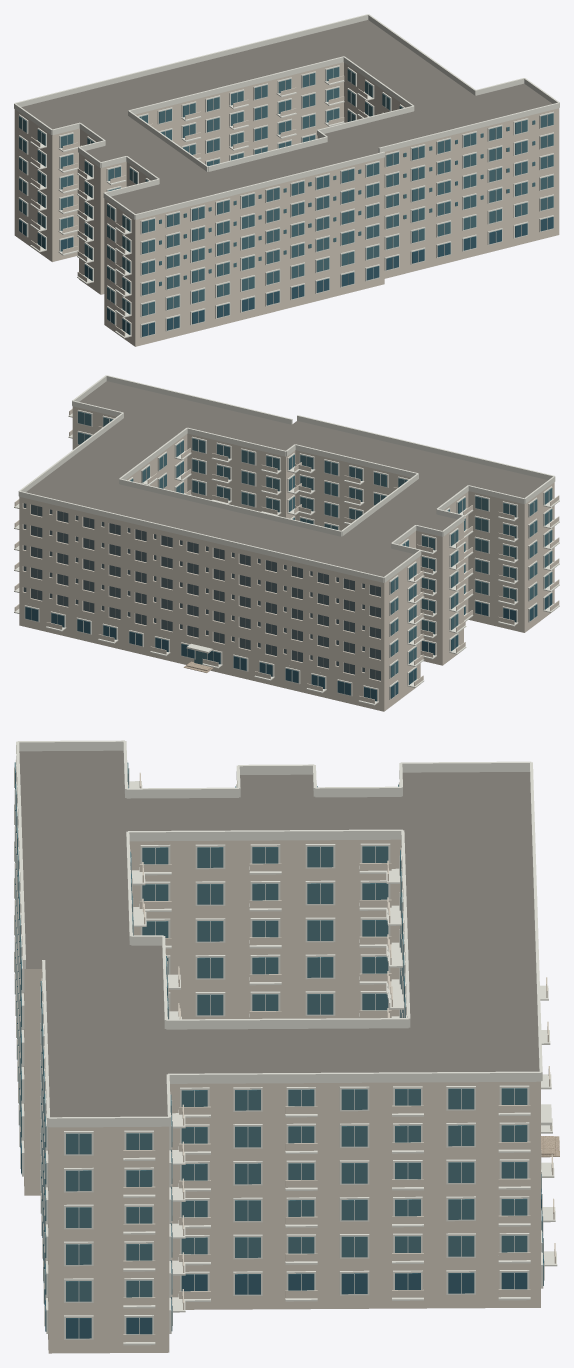
File: chunk-dorm-relation-20510974.glb
The picture shows the model from 3 angles, top to bottom: view 1: azimuth 30°, elevation 25°; view 2: azimuth 150°, elevation 25°; view 3: azimuth 270°, elevation 25°; orthographic projection. The views are drawn at different scales.
Visible parts, largest first — view 1: chunk-dorm-relation-20510974; view 2: chunk-dorm-relation-20510974; view 3: chunk-dorm-relation-20510974.
Boxes of the visible parts, bbox=[...] form: chunk-dorm-relation-20510974: bbox=[14, 14, 559, 346]; chunk-dorm-relation-20510974: bbox=[14, 375, 559, 711]; chunk-dorm-relation-20510974: bbox=[14, 740, 559, 1353].
Bounding box in the file's own units: 74.94 × 21.1 × 44.31.
Materials: 8 (1 with a texture image).
